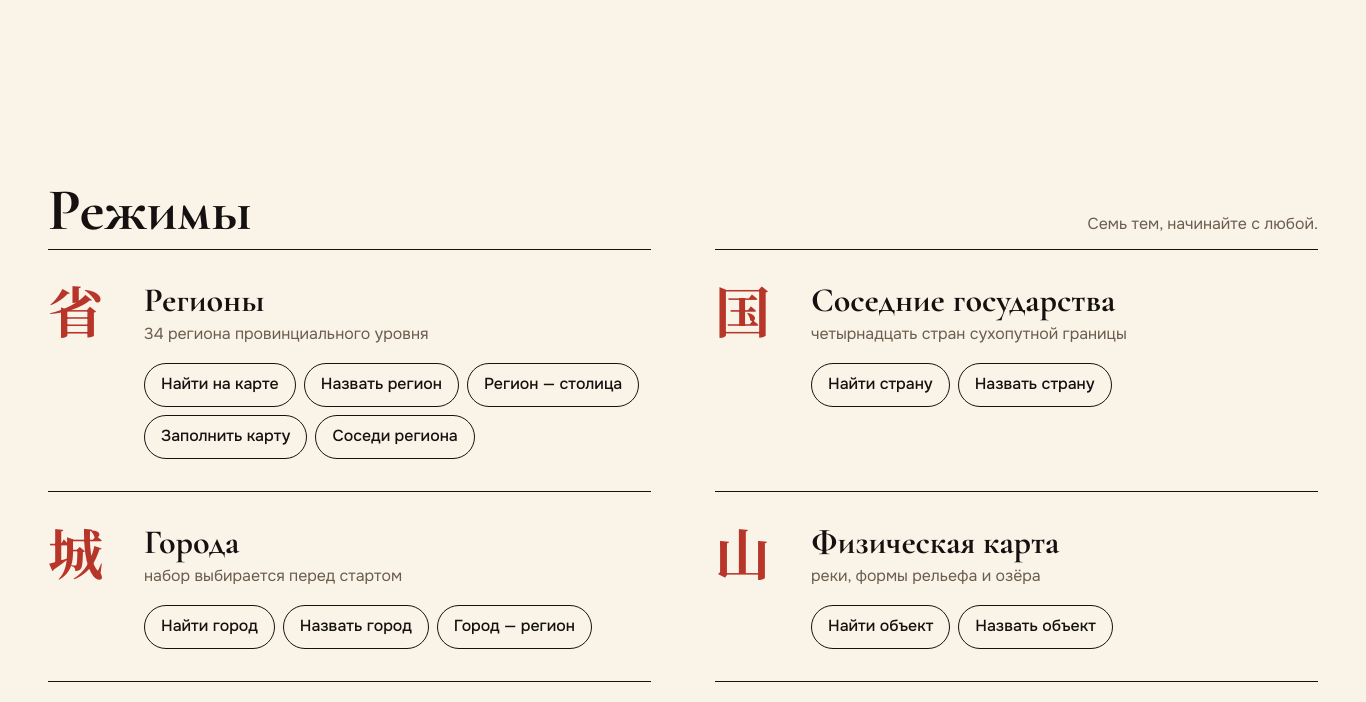
описание игры стоит в окне перед стартом, а не на карточке
(page scrolled)
What coordinates should you click on to do the following:
click the button "Найти на карте"
I would click on:
 (220, 385)
Its box is [144, 363, 296, 407].
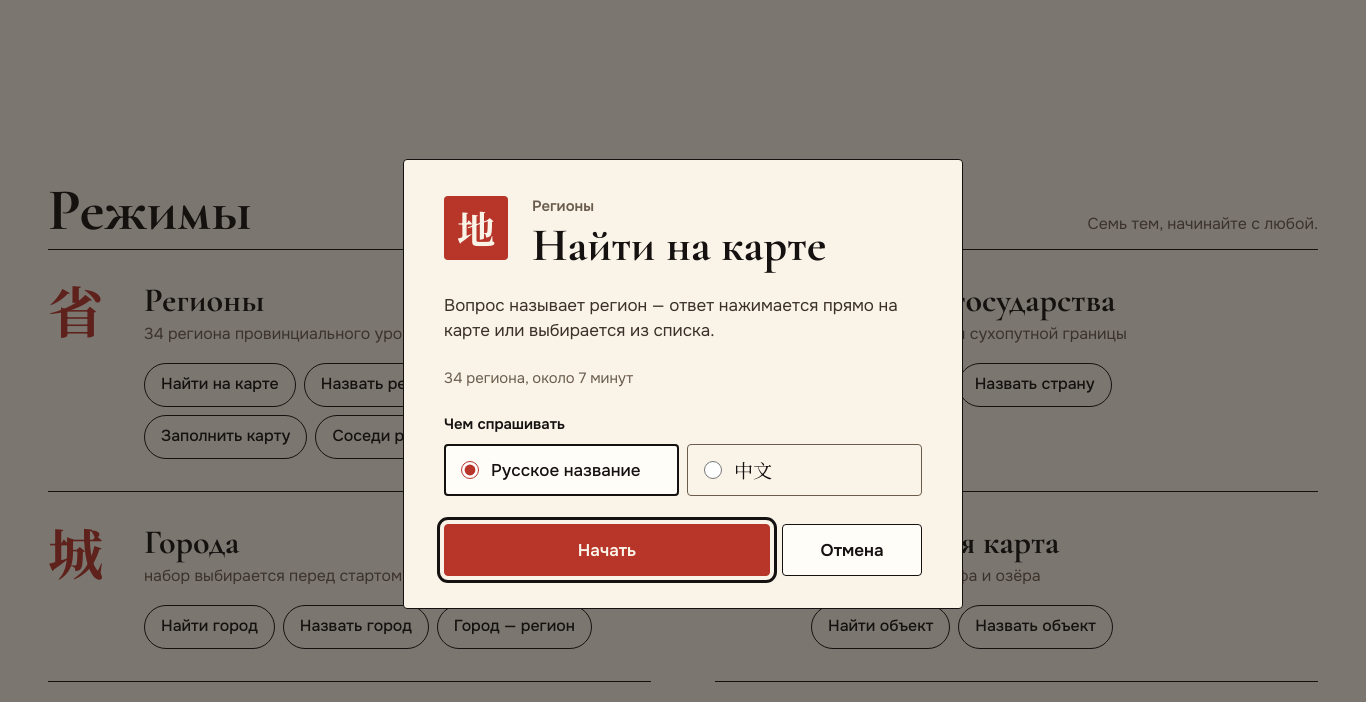
Result: the text "Вопрос называет регион — ответ нажимается прямо на карте или выбирается из списка." is shown at [444, 295, 898, 341]
